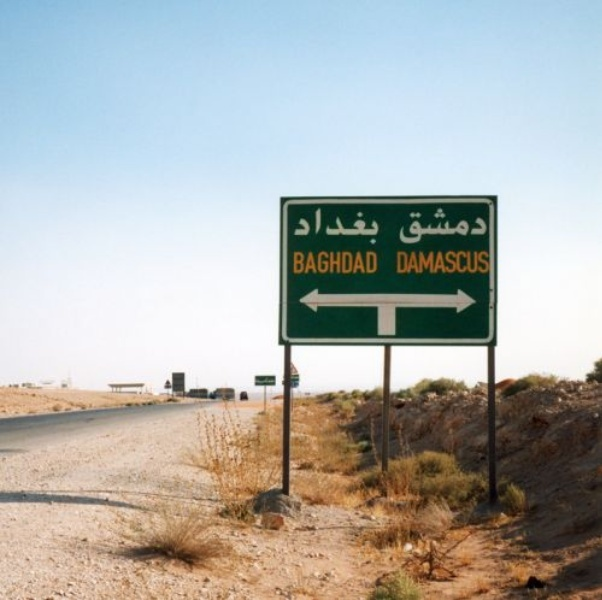text: (305, 209, 320, 245), (321, 209, 336, 245), (337, 209, 352, 245), (353, 209, 368, 245), (401, 209, 416, 244), (417, 209, 432, 244), (433, 209, 448, 244), (449, 209, 464, 244), (465, 209, 480, 244), (369, 209, 379, 245), (401, 251, 416, 274), (417, 251, 432, 274), (433, 251, 448, 274), (449, 251, 464, 274), (465, 251, 480, 274), (305, 252, 320, 274), (321, 252, 336, 274), (337, 252, 352, 274), (353, 252, 368, 274), (293, 252, 304, 274), (481, 251, 491, 274), (369, 252, 379, 274), (298, 209, 304, 245), (481, 209, 487, 244), (397, 251, 400, 274)
